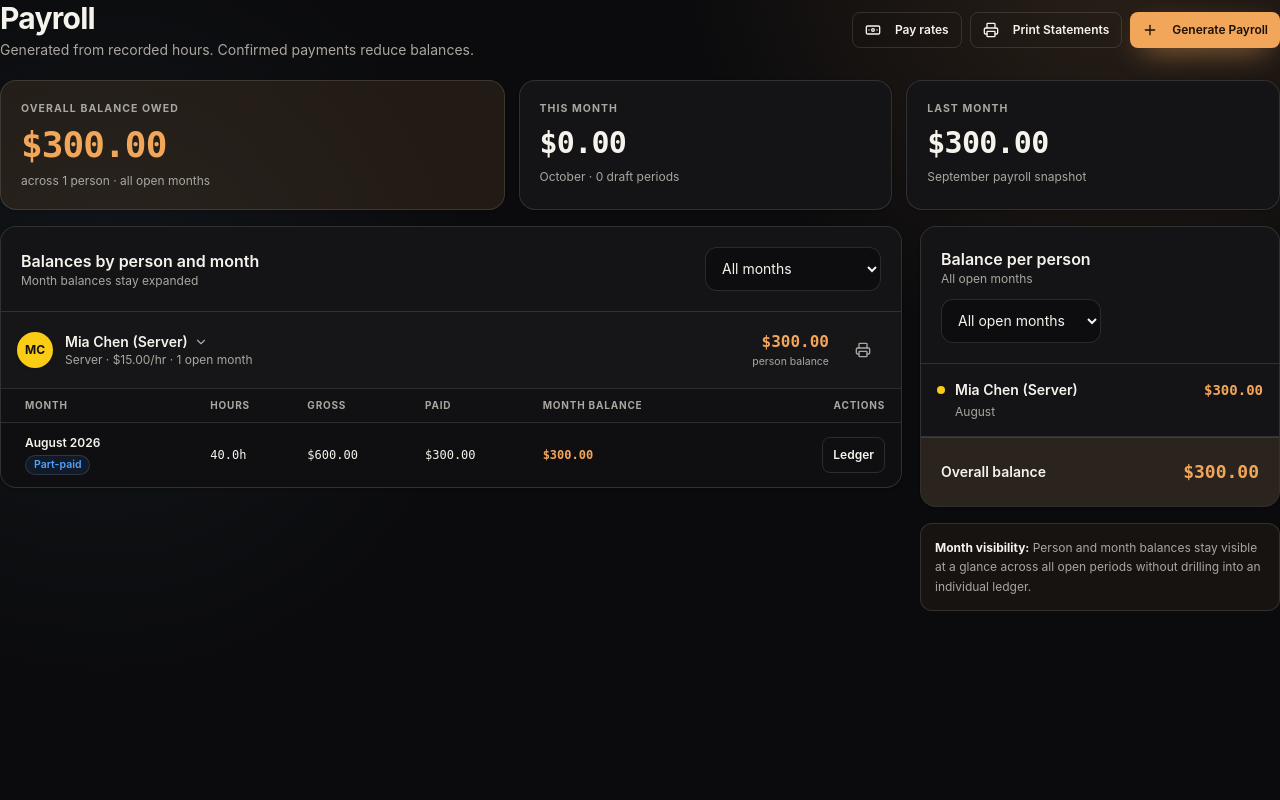
PayrollWorkspace › a manager can unlock a locked period through an explicit, reason-gated confirmation
Expected: the text "Overall balance owed" is shown, [21,102,179,115]
Click the button with aria-label "Open ledger for August 2026": coordinates (854, 455) [822,437,885,473]
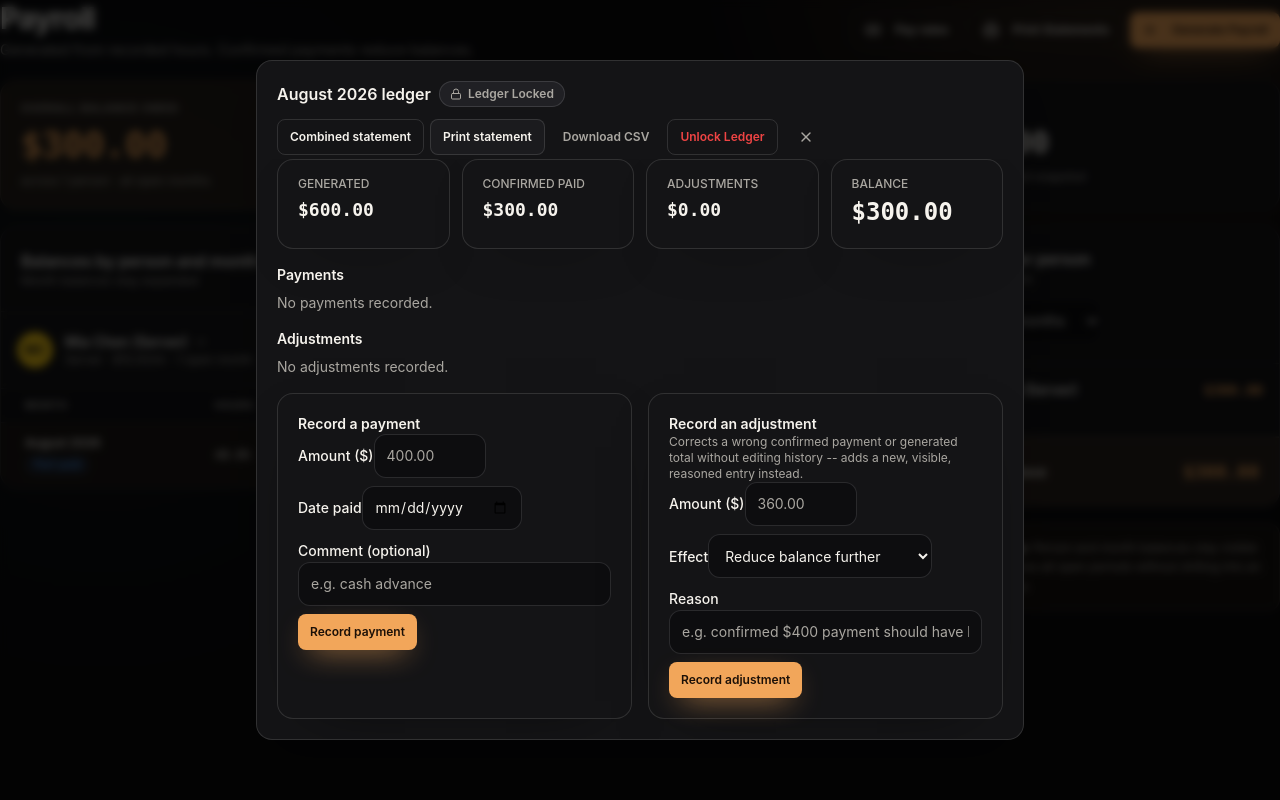
Now the text "Ledger Locked" is shown, box [439,81,565,107]
Click the button "Unlock Ledger": coordinates (722, 137) [667,119,778,155]
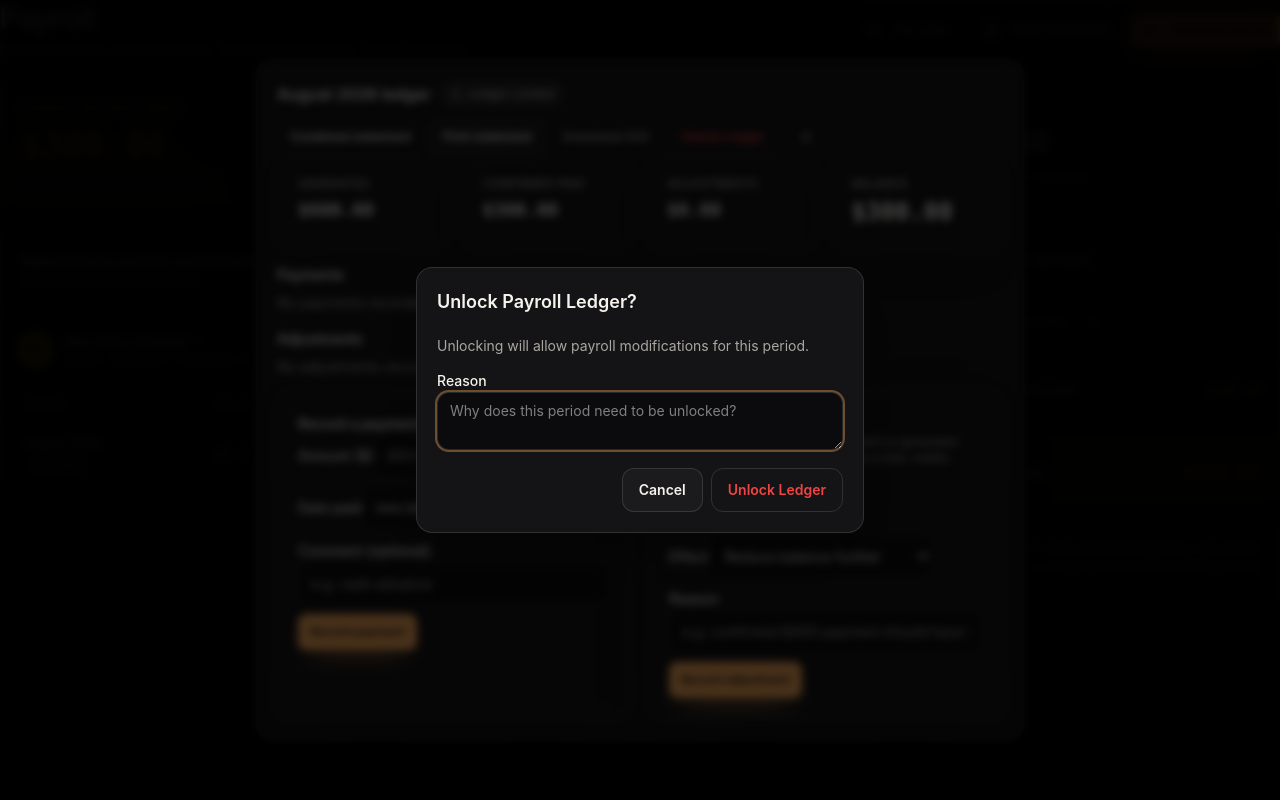
// Refuses to submit without a real reason.
Click the button "Unlock Ledger": coordinates (777, 490) [711,468,843,512]
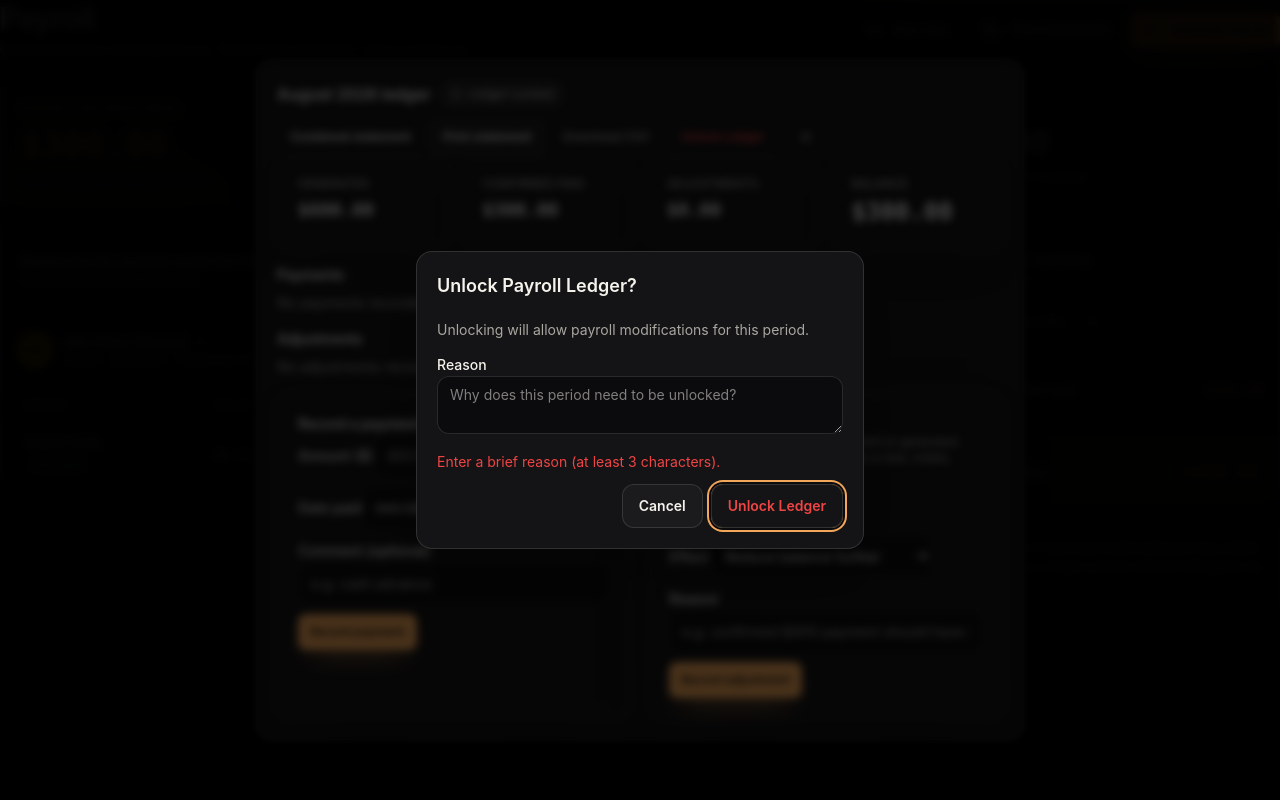
Now the text "Enter a brief reason (at least 3 characters)." is shown, box [437,453,720,470]
In the text box labelled "Reason": coordinates (640, 405) [437,376,843,434], type "Wrong hours snapshot, needs regeneration."
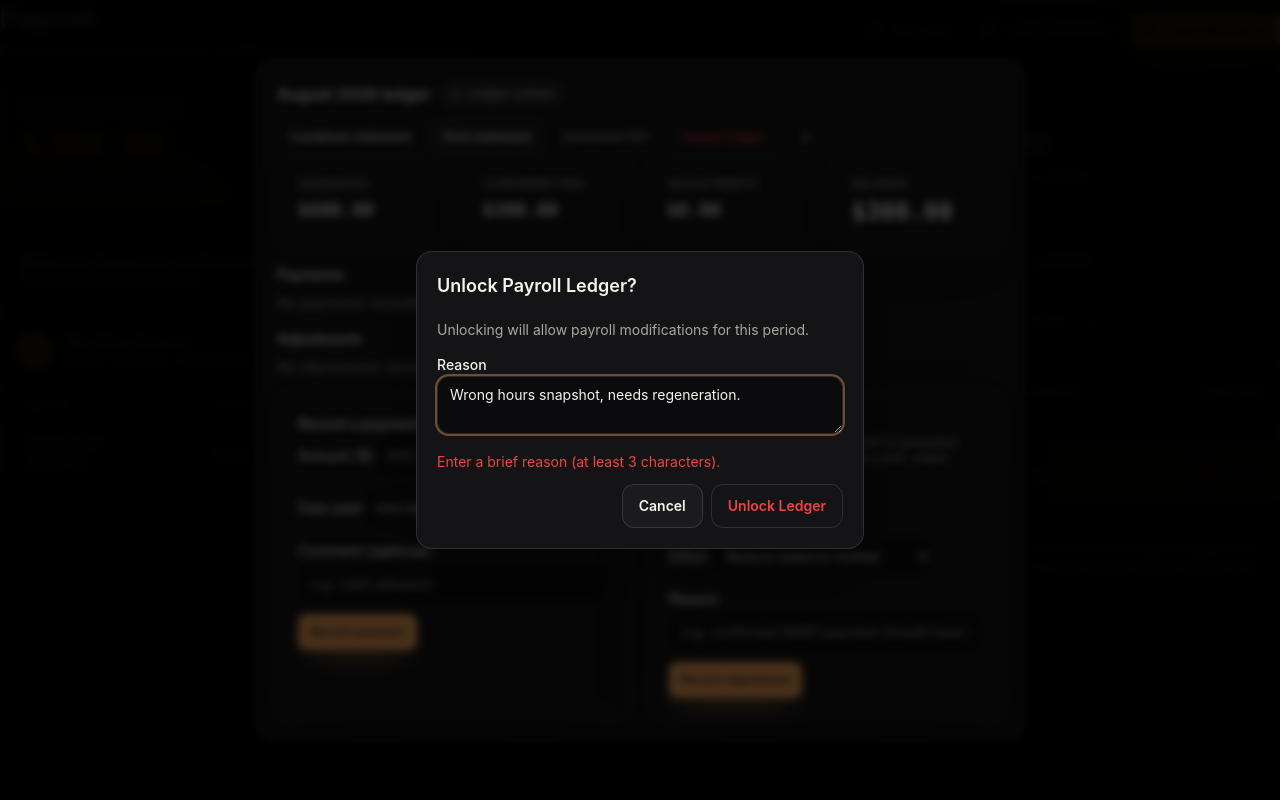
Click the button "Unlock Ledger": coordinates (777, 506) [711,484,843,528]
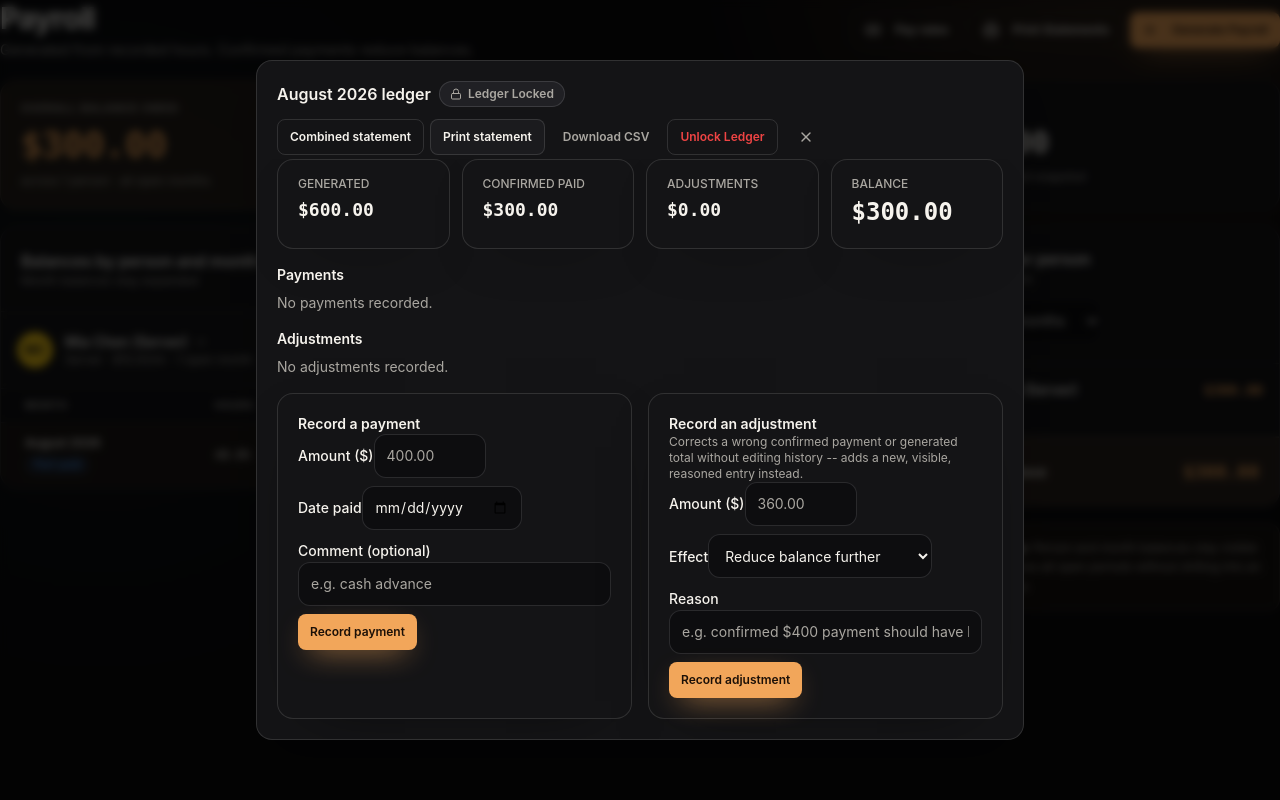
Now the dialog "August 2026 ledger" is shown, box [256,60,1024,740]
Now the heading "Unlock Payroll Ledger" is gone
